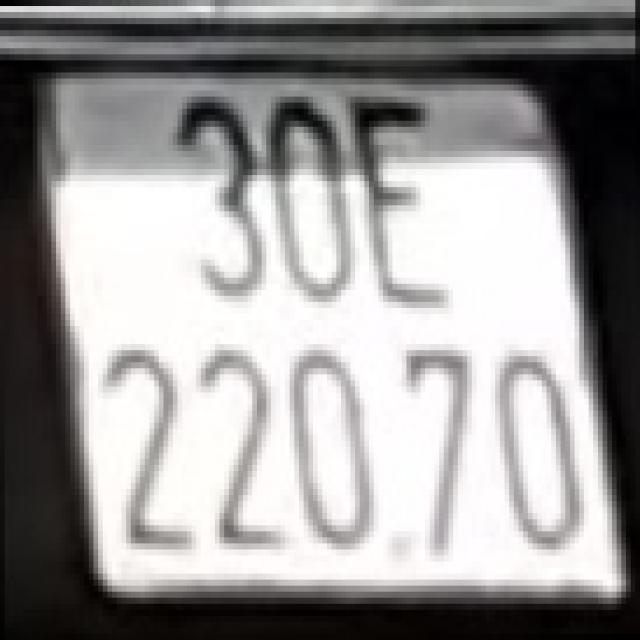0: (495, 344, 584, 550), (290, 344, 378, 550), (271, 90, 350, 302)
2: (98, 338, 196, 550), (196, 344, 285, 550)
3: (168, 90, 266, 302)
7: (397, 344, 472, 556)
E: (355, 90, 458, 308)
